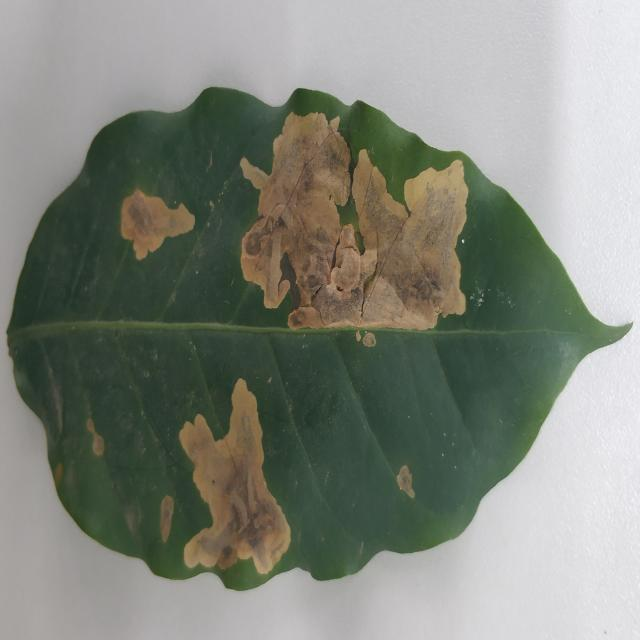Plaga-Minador: (7, 87, 633, 594)
